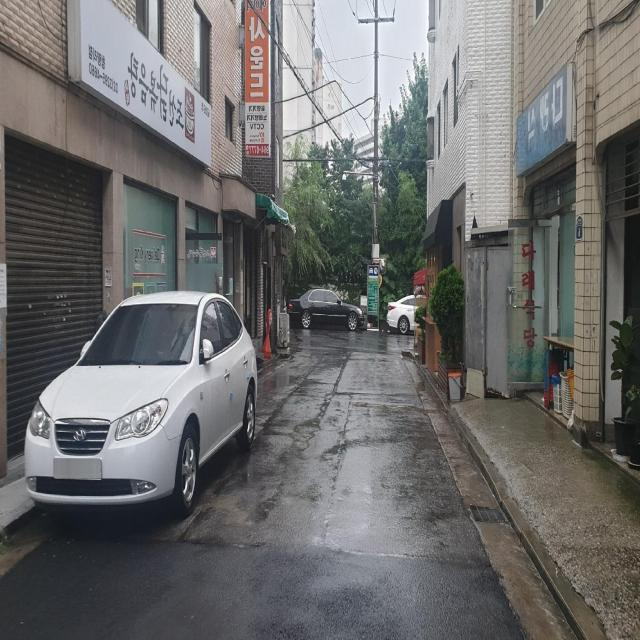car ahead at: (27, 284, 258, 509)
plant ahead at: (428, 261, 465, 393)
